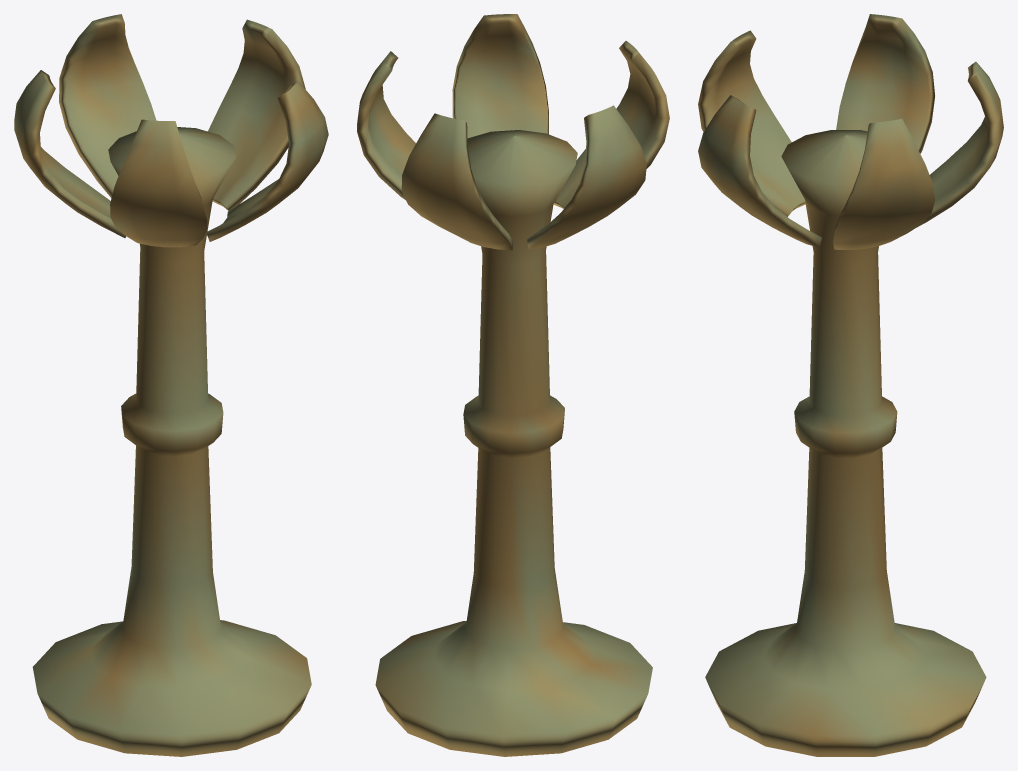
The model's file is mech_bud_stem.glb.
3 renders of one model, left to right at view 1: azimuth 30°, elevation 25°; view 2: azimuth 150°, elevation 25°; view 3: azimuth 270°, elevation 25°, orthographic.
Visible parts, largest first — view 1: mech_bud_stem_LOD0; view 2: mech_bud_stem_LOD0; view 3: mech_bud_stem_LOD0.
Part boxes in pixels (<box>): mech_bud_stem_LOD0: <box>14,14,328,756</box>; mech_bud_stem_LOD0: <box>357,14,669,756</box>; mech_bud_stem_LOD0: <box>698,14,1003,756</box>.
Size of what is drawn, in the model's own units: 0.5379 by 1.2 by 0.5217.
